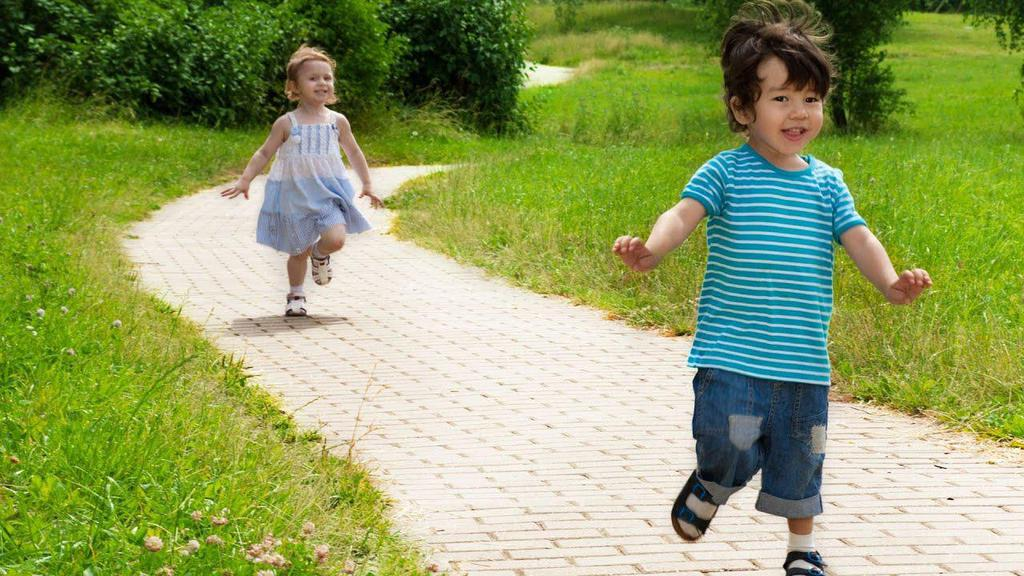child: (603, 10, 935, 576), (204, 45, 394, 324)
